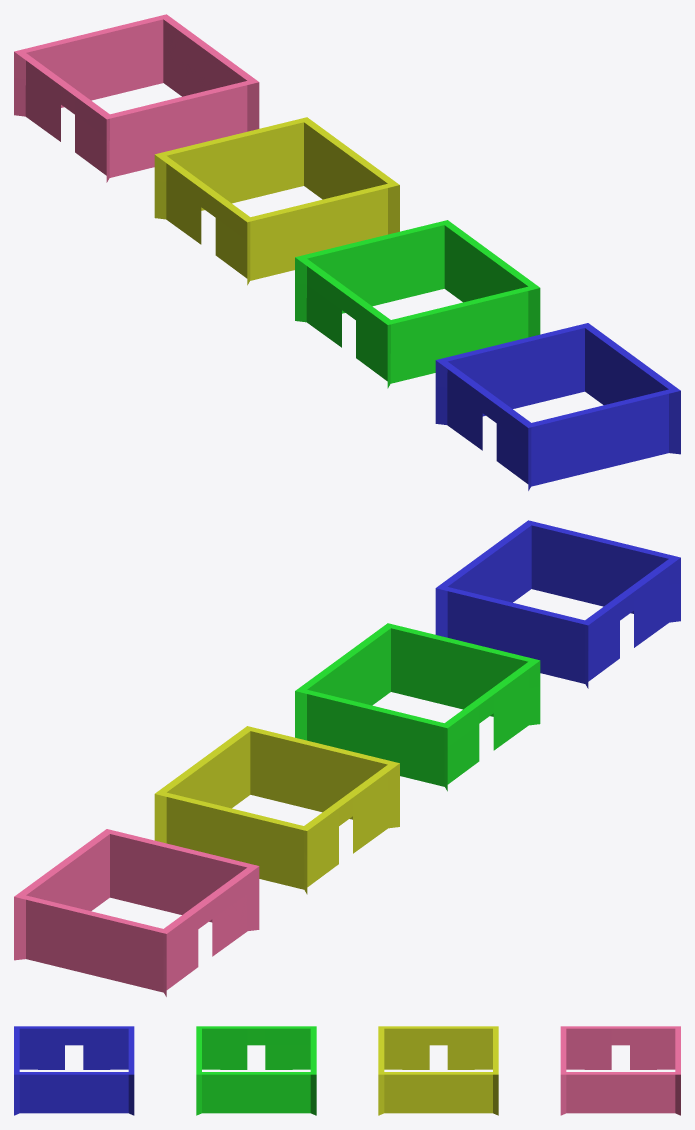
File: Habitaciones.glb
3 views of the same model, one above another, from view 1: azimuth 30°, elevation 25°; view 2: azimuth 150°, elevation 25°; view 3: azimuth 270°, elevation 25° (orthographic). The views are drawn at different scales.
Parts seen in each view (by area): view 1: Habitacion4, Habitacion2, Habitacion1, Habitacion3; view 2: Habitacion1, Habitacion3, Habitacion4, Habitacion2; view 3: Habitacion2, Habitacion3, Habitacion1, Habitacion4.
Part boxes in pixels (<box>): Habitacion4: <box>435,323,680,490</box>; Habitacion2: <box>154,117,399,285</box>; Habitacion1: <box>14,14,259,182</box>; Habitacion3: <box>295,220,540,388</box>; Habitacion1: <box>14,829,259,996</box>; Habitacion3: <box>295,623,540,791</box>; Habitacion4: <box>435,520,680,688</box>; Habitacion2: <box>154,726,399,894</box>; Habitacion2: <box>378,1026,498,1115</box>; Habitacion3: <box>196,1026,316,1115</box>; Habitacion1: <box>560,1026,680,1115</box>; Habitacion4: <box>14,1026,134,1115</box>.
Bounding box in the file's own units: 50.19 × 20 × 293.
